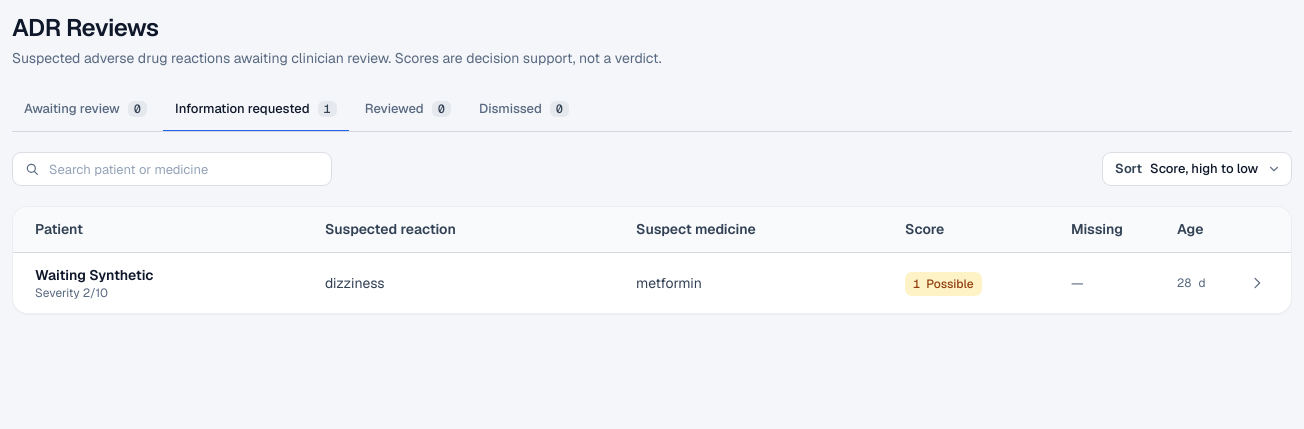
Scenario: ADR review queue › shows the information-requested tab, missing counts and an empty-tab sentence
Expected: the text "Waiting Synthetic" is shown, left=35, top=266, right=153, bottom=284
Click the button "Awaiting review 0" at (86, 110), box left=12, top=88, right=159, bottom=132
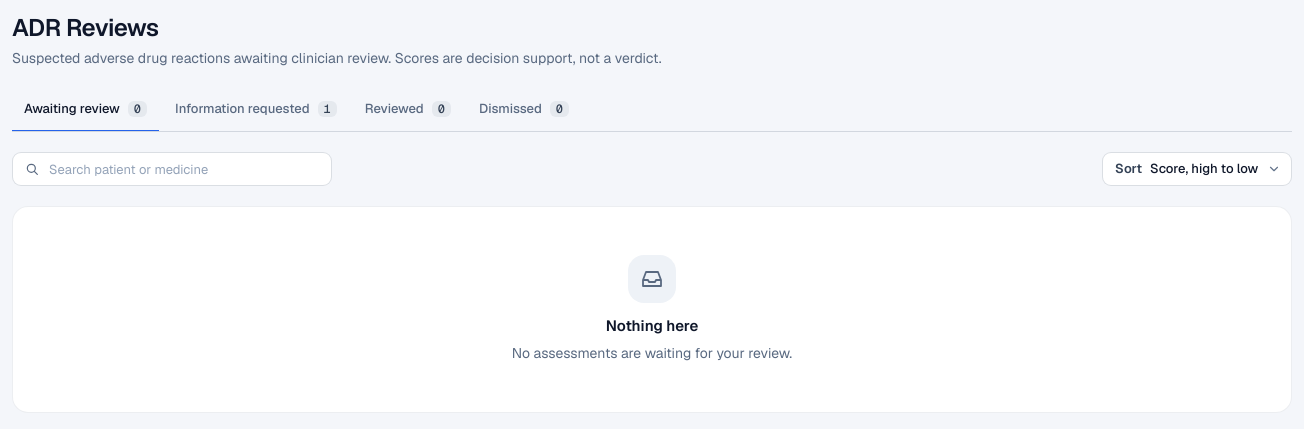
Now the text "No assessments are waiting for your review." is shown, box left=512, top=342, right=792, bottom=364
